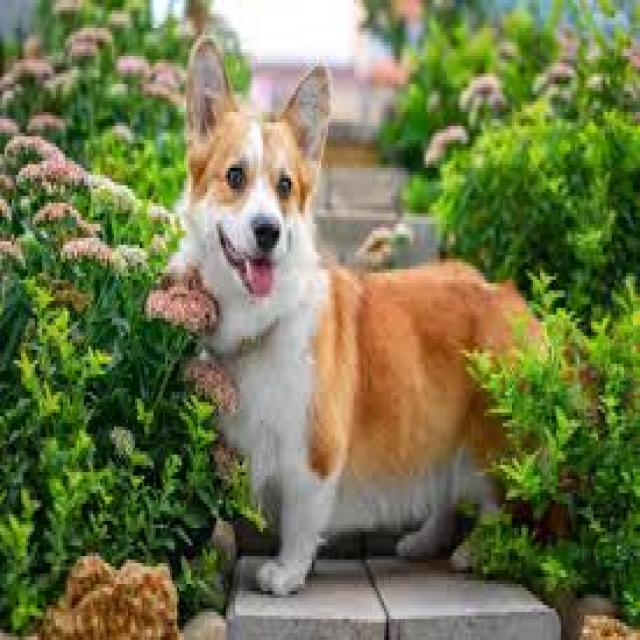CORGI: (165, 27, 599, 596)
